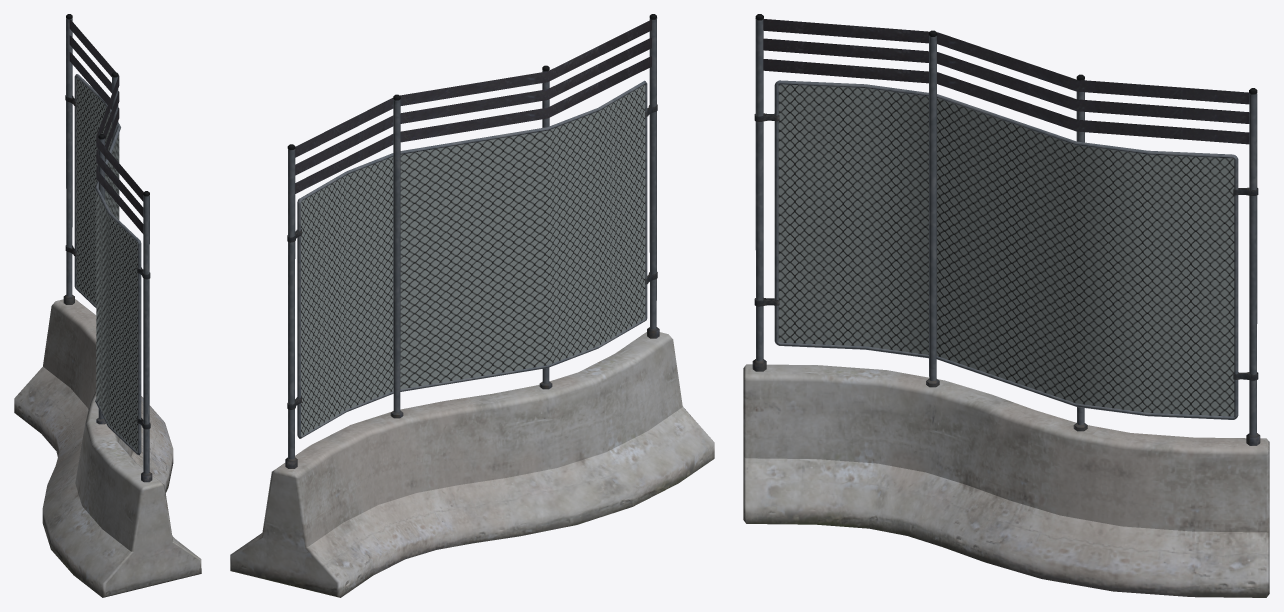
The model's file is Fence_C_C.fbx.
3 views of the same model, side by side, from view 1: azimuth 30°, elevation 25°; view 2: azimuth 150°, elevation 25°; view 3: azimuth 270°, elevation 25° (orthographic). The views are drawn at different scales.
Parts seen in each view (by area): view 1: Fence_C_C_LOD0; view 2: Fence_C_C_LOD0; view 3: Fence_C_C_LOD0.
Boxes of the visible parts, bbox=[...] form: Fence_C_C_LOD0: bbox=[14, 14, 201, 597]; Fence_C_C_LOD0: bbox=[230, 14, 714, 597]; Fence_C_C_LOD0: bbox=[743, 14, 1269, 597].
Size of what is drawn, in the model's own units: 180 by 302 by 300.
